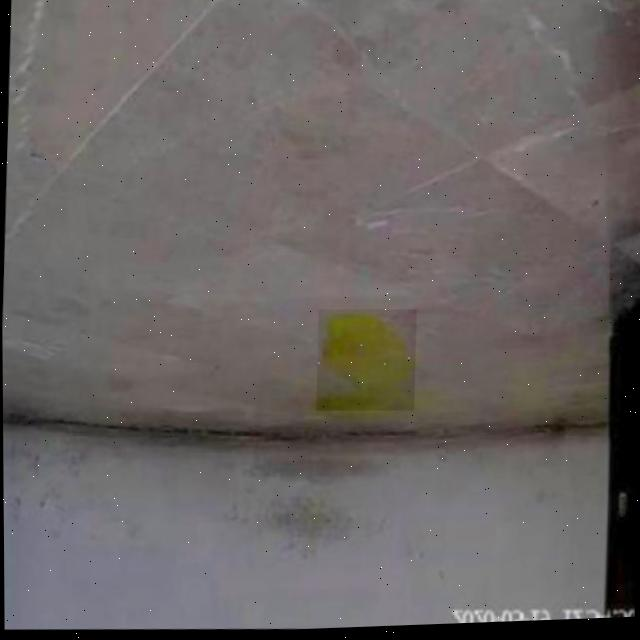spillage: (316, 312, 413, 413)
